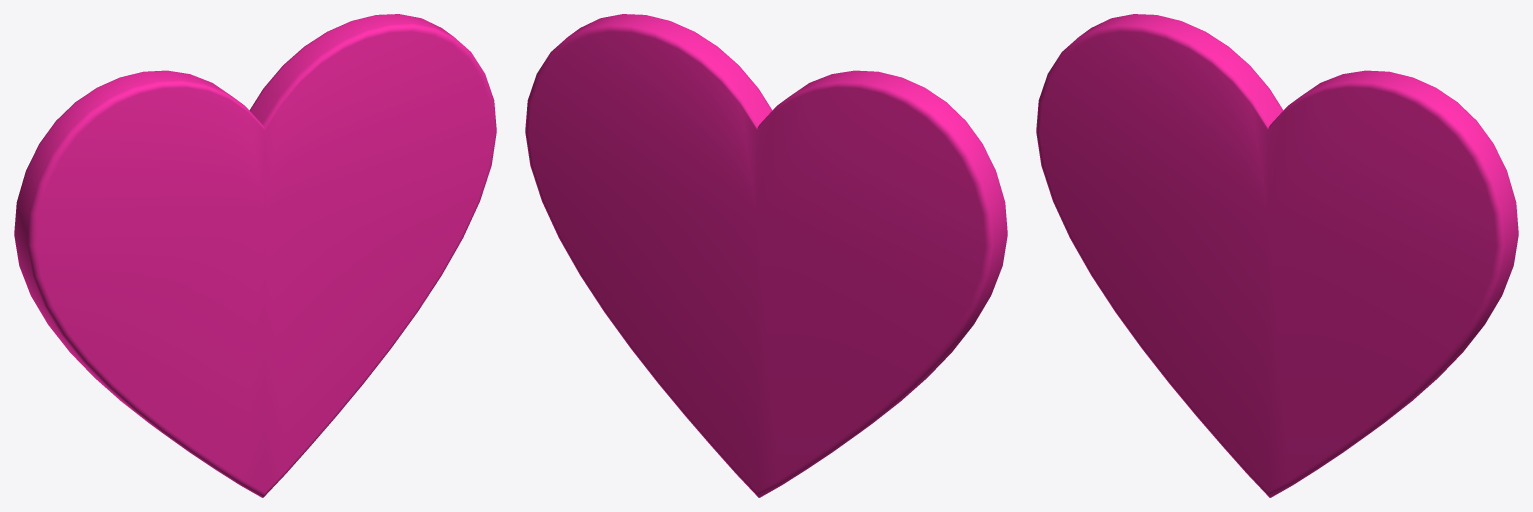
Rendered from Heart.fbx.
3 views of the same model, side by side, from view 1: azimuth 30°, elevation 25°; view 2: azimuth 150°, elevation 25°; view 3: azimuth 330°, elevation 25° (orthographic).
Parts seen in each view (by area): view 1: BezierCurve; view 2: BezierCurve; view 3: BezierCurve.
Boxes of the visible parts, box(x1,y1,x2,y2) form: BezierCurve: box(14, 14, 496, 497); BezierCurve: box(525, 14, 1007, 497); BezierCurve: box(1036, 14, 1518, 497).
Size of the model in its own units: 78.26 by 70.5 by 5.46.
